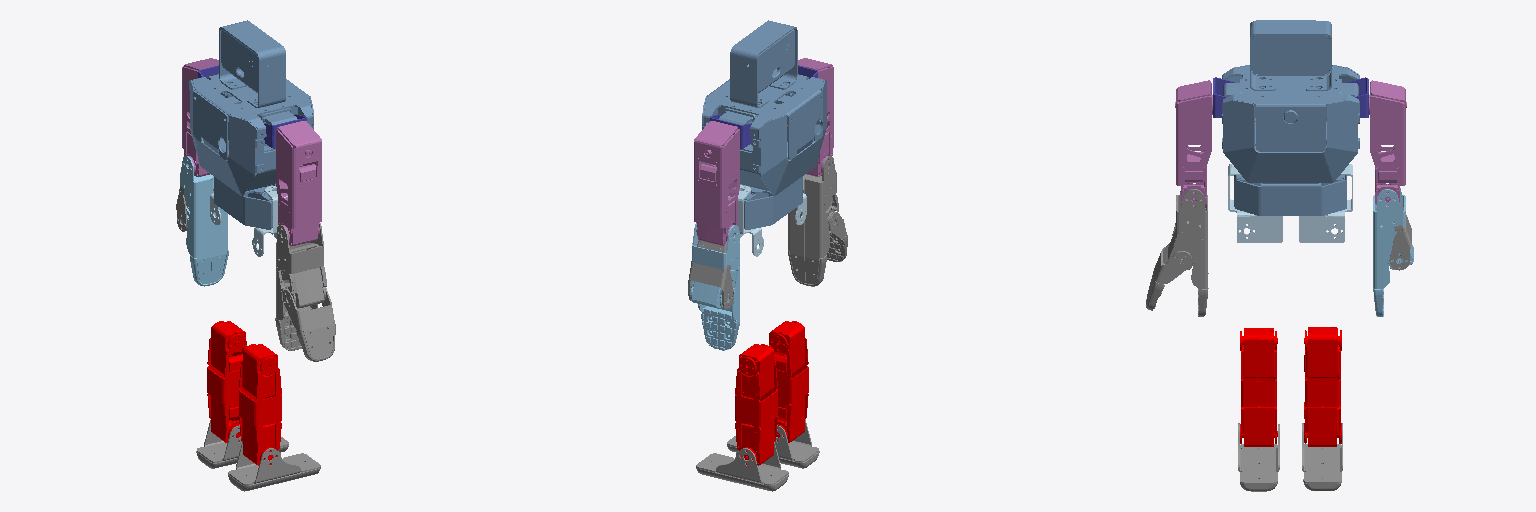
robot.urdf — z-bot2_al_limits:
<robot name="z-bot2_al_limits">
  <link name="base">
    <inertial>
      <origin rpy="0 0 0" xyz="0 0 0" />
      <mass value="0.001" />
      <inertia ixx="0.000001" ixy="0" ixz="0" iyy="0.000001" iyz="0" izz="0.000001" />
    </inertial>
  </link>
  <joint name="floating_base" type="fixed">
    <origin rpy="0 0 1.57" xyz="0 0 0" />
    <parent link="base" />
    <child link="Z-BOT2_MASTER-BODY-SKELETON" />
  </joint>
  <link name="Z-BOT2_MASTER-BODY-SKELETON">
    <visual>
      <origin xyz="0 0 0" rpy="0 0 0" />
      <geometry>
        <mesh filename="meshes/Z-BOT2_MASTER-BODY-SKELETON.stl" />
      </geometry>
      <material name="Z-BOT2_MASTER-BODY-SKELETON_material">
        <color rgba="0.49411765 0.62352941 0.74901961 1" />
      </material>
    </visual>
    <collision>
      <origin xyz="0 0 0" rpy="0 0 0" />
      <geometry>
        <mesh filename="meshes/Z-BOT2_MASTER-BODY-SKELETON.stl" />
      </geometry>
    </collision>
    <inertial>
      <mass value="1.00556824628" />
      <inertia ixx="0.00256264164199097" iyy="0.0030180149797369394" izz="0.0014586922712122663" ixy="8.521719525537774e-06" ixz="1.0577553871431714e-05" iyz="-2.32709785265081e-05" />
      <origin xyz="-0.00019427549448658383 0.010179273955138882 -0.041014326661093246" rpy="0 0 0" />
    </inertial>
  </link>
  <joint name="L_Shoulder_Pitch" type="fixed">
    <origin xyz="0.05599502633660092 -0.009609988350796515 -0.00952781042498181" rpy="1.5707963999999994 0.0 -3.1415926071795863" />
    <parent link="Z-BOT2_MASTER-BODY-SKELETON" />
    <child link="Z-BOT2-MASTER-SHOULDER2" />
    <limit effort="80" velocity="5" lower="0" upper="0" />
    <axis xyz="0 0 1" />
  </joint>
  <link name="Z-BOT2-MASTER-SHOULDER2">
    <visual>
      <origin xyz="0 0 0" rpy="0 0 0" />
      <geometry>
        <mesh filename="meshes/Z-BOT2-MASTER-SHOULDER2.stl" />
      </geometry>
      <material name="Z-BOT2-MASTER-SHOULDER2_material">
        <color rgba="0.36470588 0.36078431 0.74901961 1" />
      </material>
    </visual>
    <collision>
      <origin xyz="0 0 0" rpy="0 0 0" />
      <geometry>
        <mesh filename="meshes/Z-BOT2-MASTER-SHOULDER2.stl" />
      </geometry>
    </collision>
    <inertial>
      <mass value="0.0082269514" />
      <inertia ixx="2.5329873e-06" iyy="2.662285e-06" izz="1.0182165e-06" ixy="0" ixz="0" iyz="0" />
      <origin xyz="-0.012788045 0.0013741162 0.018800156" rpy="0 0 0" />
    </inertial>
  </link>
  <joint name="R_Shoulder_Pitch" type="fixed">
    <origin xyz="-0.05599497353346345 -0.009609990641140206 -0.009527810424981806" rpy="-1.5707963071795867 0.0 9.282041324443213e-08" />
    <parent link="Z-BOT2_MASTER-BODY-SKELETON" />
    <child link="Z-BOT2-MASTER-SHOULDER2_2" />
    <limit effort="80" velocity="5" lower="0" upper="0" />
    <axis xyz="0 0 1" />
  </joint>
  <link name="Z-BOT2-MASTER-SHOULDER2_2">
    <visual>
      <origin xyz="0 0 0" rpy="0 0 0" />
      <geometry>
        <mesh filename="meshes/Z-BOT2-MASTER-SHOULDER2_2.stl" />
      </geometry>
      <material name="Z-BOT2-MASTER-SHOULDER2_material_2">
        <color rgba="0.36470588 0.36078431 0.74901961 1" />
      </material>
    </visual>
    <collision>
      <origin xyz="0 0 0" rpy="0 0 0" />
      <geometry>
        <mesh filename="meshes/Z-BOT2-MASTER-SHOULDER2_2.stl" />
      </geometry>
    </collision>
    <inertial>
      <mass value="0.0082269514" />
      <inertia ixx="2.5329873e-06" iyy="2.662285e-06" izz="1.0182165e-06" ixy="0" ixz="0" iyz="0" />
      <origin xyz="-0.012788045 -0.0013741162 0.018799844" rpy="0 0 0" />
    </inertial>
  </link>
  <joint name="L_Hip_Roll" type="revolute">
    <origin xyz="0.04280822375832449 0.007735076030833816 -0.08441842862429541" rpy="3.1415926071795863 -2.220446049250313e-15 3.1415926071795863" />
    <parent link="Z-BOT2_MASTER-BODY-SKELETON" />
    <child link="U-HIP-L" />
    <limit effort="1.0" velocity="10" lower="-0.9" upper="0.9" />
    <axis xyz="0 0 1" />
  <dynamics damping="0.0" friction="0.0" /></joint>
  <link name="U-HIP-L">
    <visual>
      <origin xyz="0 0 0" rpy="0 0 0" />
      <geometry>
        <mesh filename="meshes/U-HIP-L.stl" />
      </geometry>
      <material name="U-HIP-L_material">
        <color rgba="0.76862745 0.88627451 0.95294118 1" />
      </material>
    </visual>
    <collision>
      <origin xyz="0 0 0" rpy="0 0 0" />
      <geometry>
        <mesh filename="meshes/U-HIP-L.stl" />
      </geometry>
    </collision>
    <inertial>
      <mass value="0.016091061" />
      <inertia ixx="9.8044336e-06" iyy="1.0218669e-05" izz="6.4442923e-06" ixy="1.5054452e-06" ixz="-2.7316437e-06" iyz="1.3095847e-06" />
      <origin xyz="-0.0011606228 -0.0043962041 0.03539619" rpy="0 0 0" />
    </inertial>
  </link>
  <joint name="R_Hip_Roll" type="revolute">
    <origin xyz="-0.04286813624167551 0.007735076030833816 -0.08441842862429541" rpy="3.1415926071795863 -2.220446049250313e-15 3.1415926071795863" />
    <parent link="Z-BOT2_MASTER-BODY-SKELETON" />
    <child link="U-HIP-R" />
    <limit effort="1.0" velocity="10" lower="-0.9" upper="0.9" />
    <axis xyz="0 0 1" />
  <dynamics damping="0.0" friction="0.0" /></joint>
  <link name="U-HIP-R">
    <visual>
      <origin xyz="0 0 0" rpy="0 0 0" />
      <geometry>
        <mesh filename="meshes/U-HIP-R.stl" />
      </geometry>
      <material name="U-HIP-R_material">
        <color rgba="0.76862745 0.88627451 0.95294118 1" />
      </material>
    </visual>
    <collision>
      <origin xyz="0 0 0" rpy="0 0 0" />
      <geometry>
        <mesh filename="meshes/U-HIP-R.stl" />
      </geometry>
    </collision>
    <inertial>
      <mass value="0.016091061" />
      <inertia ixx="9.8044336e-06" iyy="1.0218669e-05" izz="6.4442923e-06" ixy="-1.5054452e-06" ixz="2.7316437e-06" iyz="1.3095847e-06" />
      <origin xyz="0.0011606228 -0.0043962041 0.03539619" rpy="0 0 0" />
    </inertial>
  </link>
  <joint name="L_Shoulder_Roll" type="fixed">
    <origin xyz="-0.019845 -0.0049 0.0188" rpy="-1.5707963 0 -1.5707963" />
    <parent link="Z-BOT2-MASTER-SHOULDER2" />
    <child link="FK-AP-019-25T_11" />
    <limit effort="80" velocity="5" lower="0" upper="0" />
    <axis xyz="0 0 1" />
  </joint>
  <link name="FK-AP-019-25T_11">
    <visual>
      <origin xyz="0 0 0" rpy="0 0 0" />
      <geometry>
        <mesh filename="meshes/FK-AP-019-25T_11.stl" />
      </geometry>
      <material name="FK-AP-019-25T_11_material">
        <color rgba="0.74901961 0.49803922 0.7254902 1" />
      </material>
    </visual>
    <collision>
      <origin xyz="0 0 0" rpy="0 0 0" />
      <geometry>
        <mesh filename="meshes/FK-AP-019-25T_11.stl" />
      </geometry>
    </collision>
    <inertial>
      <mass value="0.14822332759999998" />
      <inertia ixx="3.709762331781961e-05" iyy="0.00021277571545790143" izz="0.0002140900095725872" ixy="3.521209635374722e-06" ixz="4.421317667143704e-06" iyz="-5.143516341895591e-08" />
      <origin xyz="0.0412811264582103 -0.0006580634966903457 -0.018485627595925685" rpy="0 0 0" />
    </inertial>
  </link>
  <joint name="R_Shoulder_Roll" type="fixed">
    <origin xyz="-0.019845 0.0049 0.0188" rpy="1.5707963 0 1.5707963" />
    <parent link="Z-BOT2-MASTER-SHOULDER2_2" />
    <child link="FK-AP-019-25T_11_2" />
    <limit effort="80" velocity="5" lower="0" upper="0" />
    <axis xyz="0 0 1" />
  </joint>
  <link name="FK-AP-019-25T_11_2">
    <visual>
      <origin xyz="0 0 0" rpy="0 0 0" />
      <geometry>
        <mesh filename="meshes/FK-AP-019-25T_11_2.stl" />
      </geometry>
      <material name="FK-AP-019-25T_11_material_2">
        <color rgba="0.74901961 0.49803922 0.7254902 1" />
      </material>
    </visual>
    <collision>
      <origin xyz="0 0 0" rpy="0 0 0" />
      <geometry>
        <mesh filename="meshes/FK-AP-019-25T_11_2.stl" />
      </geometry>
    </collision>
    <inertial>
      <mass value="0.1482233276" />
      <inertia ixx="3.709519749173821e-05" iyy="0.00021277535723548442" izz="0.00021408793703516085" ixy="-3.476317506575768e-06" ixz="4.362212169397791e-06" iyz="4.643080305604169e-08" />
      <origin xyz="0.04128112623275346 0.000668589577342187 -0.018475606843300234" rpy="0 0 0" />
    </inertial>
  </link>
  <joint name="L_Hip_Yaw" type="revolute">
    <origin xyz="0 0.018699662 0.0564" rpy="-1.5707963 0 0" />
    <parent link="U-HIP-L" />
    <child link="WJ-DP00-0002-FK-AP-020_7" />
    <limit effort="1.0" velocity="10" lower="-0.9" upper="0.9" />
    <axis xyz="0 0 1" />
  <dynamics damping="0.0" friction="0.0" /></joint>
  <link name="WJ-DP00-0002-FK-AP-020_7">
    <visual>
      <origin xyz="0 0 0" rpy="0 0 0" />
      <geometry>
        <mesh filename="meshes/WJ-DP00-0002-FK-AP-020_7.stl" />
      </geometry>
      <material name="WJ-DP00-0002-FK-AP-020_7_material">
        <color rgba="1 0 0 1" />
      </material>
    </visual>
    <collision>
      <origin xyz="0 0 0" rpy="0 0 0" />
      <geometry>
        <mesh filename="meshes/WJ-DP00-0002-FK-AP-020_7.stl" />
      </geometry>
    </collision>
    <inertial>
      <mass value="0.066367059" />
      <inertia ixx="1.67996950693012e-05" iyy="2.3378736419143892e-05" izz="2.1847779128913976e-05" ixy="1.5042622256030773e-07" ixz="-1.5862531654188153e-08" iyz="3.373071203044659e-07" />
      <origin xyz="0.01205753316807989 -0.0031696318131923975 -0.01912293141399788" rpy="0 0 0" />
    </inertial>
  </link>
  <joint name="R_Hip_Yaw" type="revolute">
    <origin xyz="0 -0.018699662 0.0564" rpy="-1.5707963 0 0" />
    <parent link="U-HIP-R" />
    <child link="WJ-DP00-0002-FK-AP-020_7_2" />
    <limit effort="1.0" velocity="10" lower="-0.9" upper="0.9" />
    <axis xyz="0 0 -1" />
  <dynamics damping="0.0" friction="0.0" /></joint>
  <link name="WJ-DP00-0002-FK-AP-020_7_2">
    <visual>
      <origin xyz="0 0 0" rpy="0 0 0" />
      <geometry>
        <mesh filename="meshes/WJ-DP00-0002-FK-AP-020_7_2.stl" />
      </geometry>
      <material name="WJ-DP00-0002-FK-AP-020_7_material_2">
        <color rgba="1 0 0 1" />
      </material>
    </visual>
    <collision>
      <origin xyz="0 0 0" rpy="0 0 0" />
      <geometry>
        <mesh filename="meshes/WJ-DP00-0002-FK-AP-020_7_2.stl" />
      </geometry>
    </collision>
    <inertial>
      <mass value="0.066367059" />
      <inertia ixx="1.6791146428802378e-05" iyy="2.3360804959479186e-05" izz="2.1857161922606146e-05" ixy="-1.5064663028147487e-07" ixz="1.1170095235928905e-08" iyz="2.3787362957845464e-07" />
      <origin xyz="-0.012057533034462324 -0.0031472511307989886 0.017378334661612708" rpy="0 0 0" />
    </inertial>
  </link>
  <joint name="L_Hip_Pitch" type="revolute">
    <origin xyz="-0.007399653999999995 -0.032 -0.017899999999999996" rpy="1.5707963 0.0 -1.5707963" />
    <parent link="WJ-DP00-0002-FK-AP-020_7" />
    <child link="WJ-DP00-0002-FK-AP-020_7_3" />
    <limit effort="1.0" velocity="10" lower="-0.9" upper="0.9" />
    <axis xyz="0 0 1" />
  <dynamics damping="0.0" friction="0.0" /></joint>
  <link name="WJ-DP00-0002-FK-AP-020_7_3">
    <visual>
      <origin xyz="0 0 0" rpy="0 0 0" />
      <geometry>
        <mesh filename="meshes/WJ-DP00-0002-FK-AP-020_7_3.stl" />
      </geometry>
      <material name="WJ-DP00-0002-FK-AP-020_7_material_3">
        <color rgba="1 0 0 1" />
      </material>
    </visual>
    <collision>
      <origin xyz="0 0 0" rpy="0 0 0" />
      <geometry>
        <mesh filename="meshes/WJ-DP00-0002-FK-AP-020_7_3.stl" />
      </geometry>
    </collision>
    <inertial>
      <mass value="0.091986251" />
      <inertia ixx="2.5882417524313463e-05" iyy="8.89599969523953e-05" izz="7.883326606638047e-05" ixy="3.833049372687857e-06" ixz="1.7547432998562063e-06" iyz="-1.568911358441216e-07" />
      <origin xyz="0.02880127148540462 -0.0015134756854695258 -0.017878699749289483" rpy="0 0 0" />
    </inertial>
  </link>
  <joint name="R_Hip_Pitch" type="revolute">
    <origin xyz="0.007399655009421977 -0.03199999927137579 0.0188997194" rpy="-1.5707963 0.0 -1.5707963071795867" />
    <parent link="WJ-DP00-0002-FK-AP-020_7_2" />
    <child link="WJ-DP00-0002-FK-AP-020_7_4" />
    <limit effort="1.0" velocity="10" lower="-0.9" upper="0.9" />
    <axis xyz="0 0 1" />
  <dynamics damping="0.0" friction="0.0" /></joint>
  <link name="WJ-DP00-0002-FK-AP-020_7_4">
    <visual>
      <origin xyz="0 0 0" rpy="0 0 0" />
      <geometry>
        <mesh filename="meshes/WJ-DP00-0002-FK-AP-020_7_4.stl" />
      </geometry>
      <material name="WJ-DP00-0002-FK-AP-020_7_material_4">
        <color rgba="1 0 0 1" />
      </material>
    </visual>
    <collision>
      <origin xyz="0 0 0" rpy="0 0 0" />
      <geometry>
        <mesh filename="meshes/WJ-DP00-0002-FK-AP-020_7_4.stl" />
      </geometry>
    </collision>
    <inertial>
      <mass value="0.091986251" />
      <inertia ixx="2.5878935943605884e-05" iyy="8.896103821562248e-05" izz="7.882874882275135e-05" ixy="-3.8079588540164983e-06" ixz="1.7590832578706518e-06" iyz="1.564822760317595e-07" />
      <origin xyz="0.028801272089239004 0.0015296231250472238 -0.01788484938063362" rpy="0 0 0" />
    </inertial>
  </link>
  <joint name="L_Elbow_Pitch" type="fixed">
    <origin xyz="0.09298379437380097 -0.01879971801611121 -0.018600374777602353" rpy="-1.570796346410206 -1.5707963071795867 0.0" />
    <parent link="FK-AP-019-25T_11" />
    <child link="R-ARM-1" />
    <limit effort="80" velocity="5" lower="0" upper="0" />
    <axis xyz="0 0 1" />
  </joint>
  <link name="R-ARM-1">
    <visual>
      <origin xyz="0 0 0" rpy="0 0 0" />
      <geometry>
        <mesh filename="meshes/R-ARM-1.stl" />
      </geometry>
      <material name="R-ARM-1_material">
        <color rgba="0.61568627 0.81176471 0.92941176 1" />
      </material>
    </visual>
    <collision>
      <origin xyz="0 0 0" rpy="0 0 0" />
      <geometry>
        <mesh filename="meshes/R-ARM-1.stl" />
      </geometry>
    </collision>
    <inertial>
      <mass value="0.113768495" />
      <inertia ixx="0.00011271331104463494" iyy="3.403271757707913e-05" izz="0.00010633241366588767" ixy="-8.014400695378506e-06" ixz="5.222298844598899e-07" iyz="2.310218341682604e-07" />
      <origin xyz="-0.0017623733763005801 0.0562661596573799 0.01962829030968923" rpy="0 0 0" />
    </inertial>
  </link>
  <joint name="R_Elbow_Pitch" type="fixed">
    <origin xyz="0.09298379516154365 0.018799715578725902 -0.018600375932454845" rpy="1.570796273205104 -1.570796288901191 0.0" />
    <parent link="FK-AP-019-25T_11_2" />
    <child link="L-ARM_1" />
    <limit effort="80" velocity="5" lower="0" upper="0" />
    <axis xyz="0 0 1" />
  </joint>
  <link name="L-ARM_1">
    <visual>
      <origin xyz="0 0 0" rpy="0 0 0" />
      <geometry>
        <mesh filename="meshes/L-ARM_1.stl" />
      </geometry>
      <material name="L-ARM_1_material">
        <color rgba="0.62745098 0.62745098 0.62745098 1" />
      </material>
    </visual>
    <collision>
      <origin xyz="0 0 0" rpy="0 0 0" />
      <geometry>
        <mesh filename="meshes/L-ARM_1.stl" />
      </geometry>
    </collision>
    <inertial>
      <mass value="0.113768642" />
      <inertia ixx="0.00011284147462546325" iyy="3.405835797976148e-05" izz="0.00010646436834818219" ixy="8.024847181600115e-06" ixz="5.785972862176867e-07" iyz="-5.479263618425482e-07" />
      <origin xyz="-0.0017754677551559904 -0.05627134602260508 0.019583295830642812" rpy="0 0 0" />
    </inertial>
  </link>
  <joint name="L_Knee_Pitch" type="revolute">
    <origin xyz="0.10000000066047848 0.009999997542907974 -0.0002597236558159702" rpy="4.641020790984154e-08 4.641020678874952e-08 2.6469779601696886e-23" />
    <parent link="WJ-DP00-0002-FK-AP-020_7_3" />
    <child link="WJ-DP00-0002-FK-AP-020_7_5" />
    <limit effort="1.0" velocity="10" lower="-0.9" upper="0.9" />
    <axis xyz="0 0 1" />
  <dynamics damping="0.0" friction="0.0" /></joint>
  <link name="WJ-DP00-0002-FK-AP-020_7_5">
    <visual>
      <origin xyz="0 0 0" rpy="0 0 0" />
      <geometry>
        <mesh filename="meshes/WJ-DP00-0002-FK-AP-020_7_5.stl" />
      </geometry>
      <material name="WJ-DP00-0002-FK-AP-020_7_material_5">
        <color rgba="1 0 0 1" />
      </material>
    </visual>
    <collision>
      <origin xyz="0 0 0" rpy="0 0 0" />
      <geometry>
        <mesh filename="meshes/WJ-DP00-0002-FK-AP-020_7_5.stl" />
      </geometry>
    </collision>
    <inertial>
      <mass value="0.1298739283" />
      <inertia ixx="3.0079348382867383e-05" iyy="0.00020815533623079276" izz="0.00019860513275534965" ixy="5.65732688804165e-08" ixz="4.189905770550154e-07" iyz="-1.488363313445504e-10" />
      <origin xyz="0.04999998795029383 1.5546816502597473e-09 -0.017494854035019106" rpy="0 0 0" />
    </inertial>
  </link>
  <joint name="R_Knee_Pitch" type="revolute">
    <origin xyz="0.10000000042471463 -0.00999999754290798 -0.00025971514418403357" rpy="4.641020790984154e-08 -4.641020678874952e-08 -2.6469779601696886e-23" />
    <parent link="WJ-DP00-0002-FK-AP-020_7_4" />
    <child link="WJ-DP00-0002-FK-AP-020_7_6" />
    <limit effort="1.0" velocity="10" lower="-0.9" upper="0.9" />
    <axis xyz="0 0 1" />
  <dynamics damping="0.0" friction="0.0" /></joint>
  <link name="WJ-DP00-0002-FK-AP-020_7_6">
    <visual>
      <origin xyz="0 0 0" rpy="0 0 0" />
      <geometry>
        <mesh filename="meshes/WJ-DP00-0002-FK-AP-020_7_6.stl" />
      </geometry>
      <material name="WJ-DP00-0002-FK-AP-020_7_material_6">
        <color rgba="1 0 0 1" />
      </material>
    </visual>
    <collision>
      <origin xyz="0 0 0" rpy="0 0 0" />
      <geometry>
        <mesh filename="meshes/WJ-DP00-0002-FK-AP-020_7_6.stl" />
      </geometry>
    </collision>
    <inertial>
      <mass value="0.1298739283" />
      <inertia ixx="3.0132388073937516e-05" iyy="0.00020820837592186241" izz="0.0001986051327553494" ixy="5.65732400327035e-08" ixz="-9.166269716046277e-12" iyz="-7.591828552976823e-14" />
      <origin xyz="0.04999998797128728 1.6483578938166268e-09 -0.017394839146368447" rpy="0 0 0" />
    </inertial>
  </link>
  <joint name="L_Hand_Pitch" type="fixed">
    <origin xyz="-0.011778207168971242 0.06620574802540724 0.037339718524295344" rpy="-3.141592653589792 -4.641020678874952e-08 0.3490658" />
    <parent link="R-ARM-1" />
    <child link="FINGER_1" />
    <limit effort="80" velocity="5" lower="0" upper="0" />
    <axis xyz="0 0 1" />
  </joint>
  <link name="FINGER_1">
    <visual>
      <origin xyz="0 0 0" rpy="0 0 0" />
      <geometry>
        <mesh filename="meshes/FINGER_1.stl" />
      </geometry>
      <material name="FINGER_1_material">
        <color rgba="0.62745098 0.62745098 0.62745098 1" />
      </material>
    </visual>
    <collision>
      <origin xyz="0 0 0" rpy="0 0 0" />
      <geometry>
        <mesh filename="meshes/FINGER_1.stl" />
      </geometry>
    </collision>
    <inertial>
      <mass value="0.022322296" />
      <inertia ixx="1.060067630383204e-05" iyy="4.344197966285887e-06" izz="7.458542268938181e-06" ixy="9.355448433646859e-08" ixz="-4.315304836460205e-13" iyz="-3.347330952272503e-11" />
      <origin xyz="-0.010724395664788779 -0.03346494500657079 0.018799715912314913" rpy="0 0 0" />
    </inertial>
  </link>
  <joint name="R_Hand_Pitch" type="fixed">
    <origin xyz="-0.011778203442038957 -0.06620574861365118 0.037339718524295344" rpy="-3.141592653589792 4.6410207010794124e-08 -0.3490658" />
    <parent link="L-ARM_1" />
    <child link="FINGER_1_2" />
    <limit effort="80" velocity="5" lower="0" upper="0" />
    <axis xyz="0 0 1" />
  </joint>
  <link name="FINGER_1_2">
    <visual>
      <origin xyz="0 0 0" rpy="0 0 0" />
      <geometry>
        <mesh filename="meshes/FINGER_1_2.stl" />
      </geometry>
      <material name="FINGER_1_material_2">
        <color rgba="0.62745098 0.62745098 0.62745098 1" />
      </material>
    </visual>
    <collision>
      <origin xyz="0 0 0" rpy="0 0 0" />
      <geometry>
        <mesh filename="meshes/FINGER_1_2.stl" />
      </geometry>
    </collision>
    <inertial>
      <mass value="0.022322296" />
      <inertia ixx="1.060067629421708e-05" iyy="4.3441979649728695e-06" izz="7.458542258011555e-06" ixy="-9.355453933978546e-08" ixz="3.676582852402543e-13" iyz="-3.344855064307933e-11" />
      <origin xyz="-0.010724395403627135 0.03346494498372212 0.018799557996469728" rpy="0 0 0" />
    </inertial>
  </link>
  <joint name="L_Ankle_Pitch" type="revolute">
    <origin xyz="0.09999999987006428 3.364079596487879e-09 -0.0001999952684794198" rpy="-3.141592653589792 4.641020900919557e-08 1.5707964071795835" />
    <parent link="WJ-DP00-0002-FK-AP-020_7_5" />
    <child link="FOOT" />
    <limit effort="1.0" velocity="10" lower="-0.9" upper="0.9" />
    <axis xyz="0 0 1" />
  <dynamics damping="0.0" friction="0.01" /></joint>
  <link name="FOOT">
    <visual>
      <origin xyz="0 0 0" rpy="0 0 0" />
      <geometry>
        <mesh filename="meshes/FOOT.stl" />
      </geometry>
      <material name="FOOT_material">
        <color rgba="0.62745098 0.62745098 0.62745098 1" />
      </material>
    </visual>
    <collision>
      <origin xyz="0 0 0" rpy="0 0 0" />
      <geometry>
        <mesh filename="meshes/FOOT.stl" />
      </geometry>
    </collision>
    <inertial>
      <mass value="0.09495736199999999" />
      <inertia ixx="1.5343513753539845e-05" iyy="7.007870367600065e-05" izz="6.20910573295403e-05" ixy="6.441604553393503e-07" ixz="-9.580632187529158e-13" iyz="-3.268115640137576e-13" />
      <origin xyz="-0.015077854169254825 0.027835259208153267 0.018700000506988612" rpy="0 0 0" />
    </inertial>
  </link>
  <joint name="R_Ankle_Pitch" type="revolute">
    <origin xyz="0.09999999987006428 3.364079596487879e-09 4.731520579850934e-09" rpy="-3.141592560769378 -4.6410206566704915e-08 -1.5707963000000027" />
    <parent link="WJ-DP00-0002-FK-AP-020_7_6" />
    <child link="FOOT_2" />
    <limit effort="1.0" velocity="10" lower="-0.9" upper="0.9" />
    <axis xyz="0 0 1" />
  <dynamics damping="0.0" friction="0.01" /></joint>
  <link name="FOOT_2">
    <visual>
      <origin xyz="0 0 0" rpy="0 0 0" />
      <geometry>
        <mesh filename="meshes/FOOT_2.stl" />
      </geometry>
      <material name="FOOT_material_2">
        <color rgba="0.62745098 0.62745098 0.62745098 1" />
      </material>
    </visual>
    <collision>
      <origin xyz="0 0 0" rpy="0 0 0" />
      <geometry>
        <mesh filename="meshes/FOOT_2.stl" />
      </geometry>
    </collision>
    <inertial>
      <mass value="0.09495736199999999" />
      <inertia ixx="1.5343513115415027e-05" iyy="7.007870364497019e-05" izz="6.2091056660385e-05" ixy="-6.441628047314956e-07" ixz="9.580632264007358e-13" iyz="-3.2681143979281195e-13" />
      <origin xyz="-0.015077853983675935 -0.02783525773689716 0.018699999493011384" rpy="0 0 0" />
    </inertial>
  </link>
</robot>

--- Facts derived from the render (not from the file) ---
Views: 3 orthographic renders of the robot side by side, from view 1: azimuth 30°, elevation 25°; view 2: azimuth 150°, elevation 25°; view 3: azimuth 270°, elevation 25°.
Model z-bot2_al_limits with 20 links and 19 joints (10 revolute, 9 fixed), rooted at base, posed all joints at 0.
Links seen in each view (by area): view 1: Z-BOT2_MASTER-BODY-SKELETON, FK-AP-019-25T_11_2, WJ-DP00-0002-FK-AP-020_7_6, L-ARM_1, R-ARM-1, WJ-DP00-0002-FK-AP-020_7_5, FOOT_2, FINGER_1_2, FOOT, FK-AP-019-25T_11, U-HIP-R; view 2: Z-BOT2_MASTER-BODY-SKELETON, FK-AP-019-25T_11, WJ-DP00-0002-FK-AP-020_7_5, L-ARM_1, R-ARM-1, WJ-DP00-0002-FK-AP-020_7_6, FOOT, FOOT_2, FK-AP-019-25T_11_2, FINGER_1, FINGER_1_2, U-HIP-L; view 3: Z-BOT2_MASTER-BODY-SKELETON, WJ-DP00-0002-FK-AP-020_7_5, WJ-DP00-0002-FK-AP-020_7_6, FK-AP-019-25T_11_2, FK-AP-019-25T_11, L-ARM_1, R-ARM-1, FOOT_2, FOOT, U-HIP-R, U-HIP-L, FINGER_1_2 (+1 smaller).
Link boxes in pixels (x1,y1,x2,y2): Z-BOT2_MASTER-BODY-SKELETON: (189, 20, 313, 229); FK-AP-019-25T_11_2: (276, 121, 321, 245); WJ-DP00-0002-FK-AP-020_7_6: (239, 344, 281, 465); L-ARM_1: (275, 223, 326, 350); R-ARM-1: (180, 156, 228, 286); WJ-DP00-0002-FK-AP-020_7_5: (207, 321, 247, 442); FOOT_2: (228, 442, 320, 491); FINGER_1_2: (283, 287, 335, 361); FOOT: (196, 420, 288, 468); FK-AP-019-25T_11: (182, 58, 218, 176); U-HIP-R: (252, 186, 287, 256); Z-BOT2_MASTER-BODY-SKELETON: (702, 20, 826, 229); FK-AP-019-25T_11: (694, 121, 739, 245); WJ-DP00-0002-FK-AP-020_7_5: (735, 344, 777, 465); L-ARM_1: (788, 156, 838, 286); R-ARM-1: (690, 223, 739, 350); WJ-DP00-0002-FK-AP-020_7_6: (769, 321, 808, 442); FOOT: (696, 442, 788, 491); FOOT_2: (727, 419, 819, 468); FK-AP-019-25T_11_2: (798, 58, 833, 176); FINGER_1: (688, 240, 733, 308); FINGER_1_2: (827, 212, 847, 261); U-HIP-L: (728, 185, 763, 256); Z-BOT2_MASTER-BODY-SKELETON: (1222, 20, 1359, 215); WJ-DP00-0002-FK-AP-020_7_5: (1304, 327, 1341, 446); WJ-DP00-0002-FK-AP-020_7_6: (1240, 328, 1277, 446); FK-AP-019-25T_11_2: (1175, 80, 1212, 206); FK-AP-019-25T_11: (1369, 80, 1406, 206); L-ARM_1: (1168, 189, 1208, 316); R-ARM-1: (1373, 188, 1413, 316); FOOT_2: (1238, 423, 1279, 491); FOOT: (1302, 423, 1342, 490); U-HIP-R: (1228, 164, 1282, 242); U-HIP-L: (1299, 164, 1352, 242); FINGER_1_2: (1146, 243, 1191, 310).
Size in the robot's own frame: 0.1012 by 0.2614 by 0.4775 metres.
15 mesh visuals loaded from 19 distinct referenced files (15 binary STL); not drawn: 4 (reference not matched to a file when rendering).